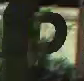Parking: (18, 7, 80, 79)
